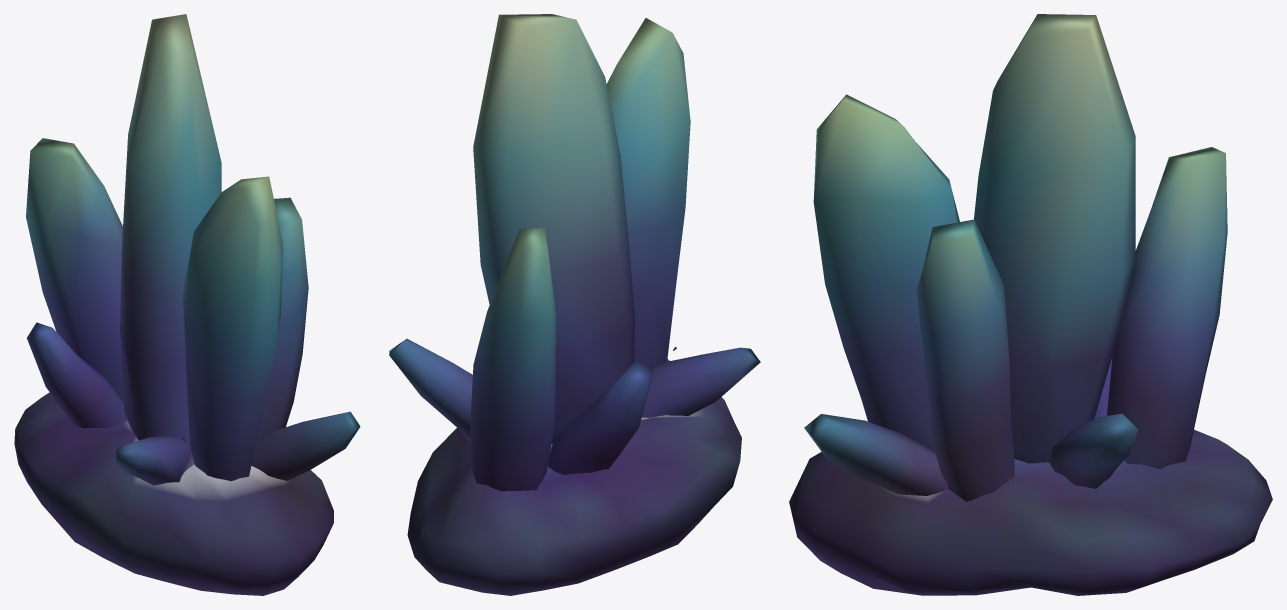
The model's file is Crystals_LP.fbx.
3 views of the same model, side by side, from view 1: azimuth 30°, elevation 25°; view 2: azimuth 150°, elevation 25°; view 3: azimuth 270°, elevation 25° (orthographic). The views are drawn at different scales.
Visible parts, largest first — view 1: Crystals2; view 2: Crystals2; view 3: Crystals2.
Boxes of the visible parts, <box> form: Crystals2: <box>14,14,360,595</box>; Crystals2: <box>389,14,760,595</box>; Crystals2: <box>789,14,1272,595</box>.
Bounding box in the file's own units: 182 × 351 × 277.
